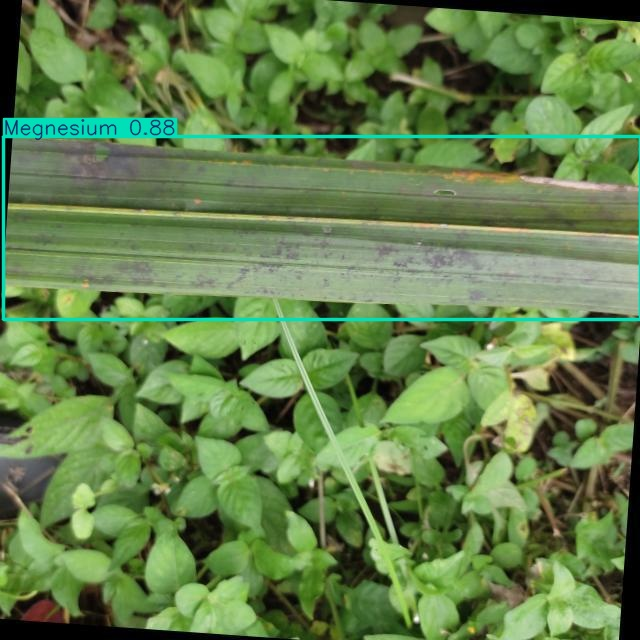Megnesium: (4, 136, 640, 320)
